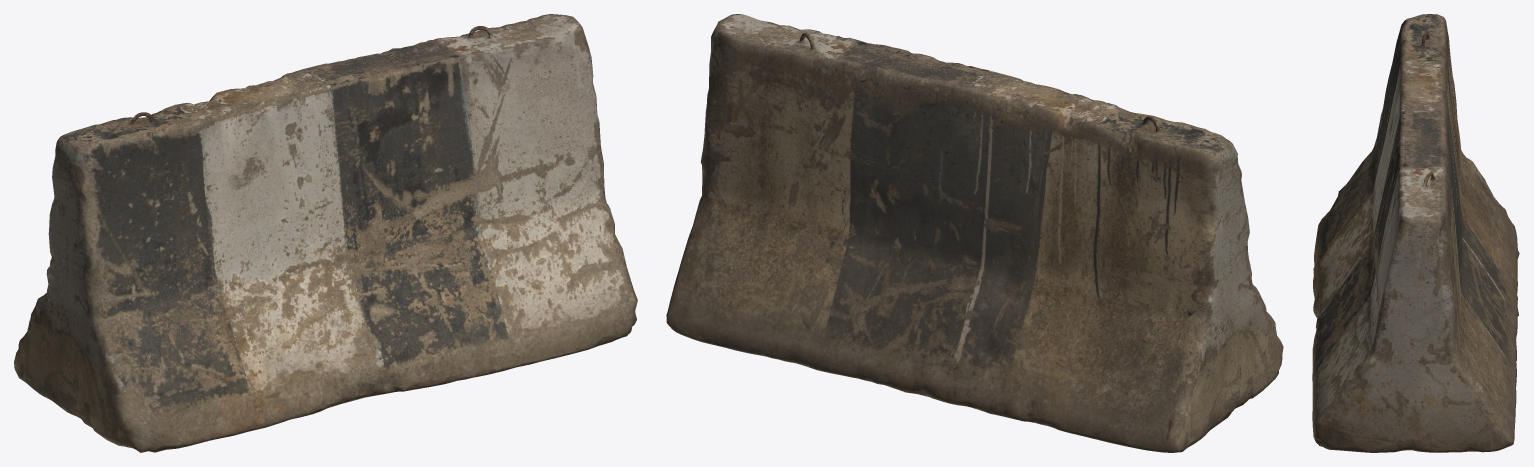
The model's file is concrete_barrier.glb.
3 views of the same model, side by side, from view 1: azimuth 30°, elevation 25°; view 2: azimuth 150°, elevation 25°; view 3: azimuth 270°, elevation 25° (orthographic). The views are drawn at different scales.
Visible parts, largest first — view 1: concrete_barrier_lod0; view 2: concrete_barrier_lod0; view 3: concrete_barrier_lod0.
Part boxes in pixels (x1,y1,x2,y2): concrete_barrier_lod0: [14, 14, 637, 452]; concrete_barrier_lod0: [666, 14, 1283, 452]; concrete_barrier_lod0: [1312, 14, 1519, 452].
Size of what is drawn, in the model's own units: 1.54 by 0.8316 by 0.6366.
Materials: 1 (1 with a texture image).
